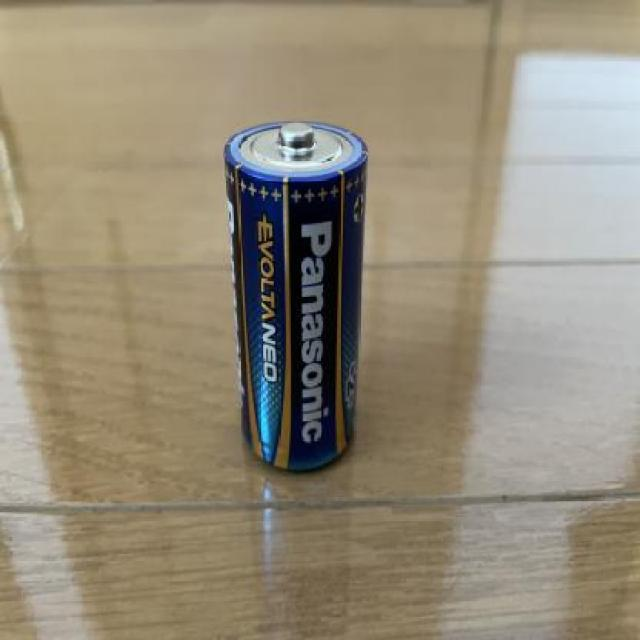hazardous waste: (222, 110, 366, 482)
